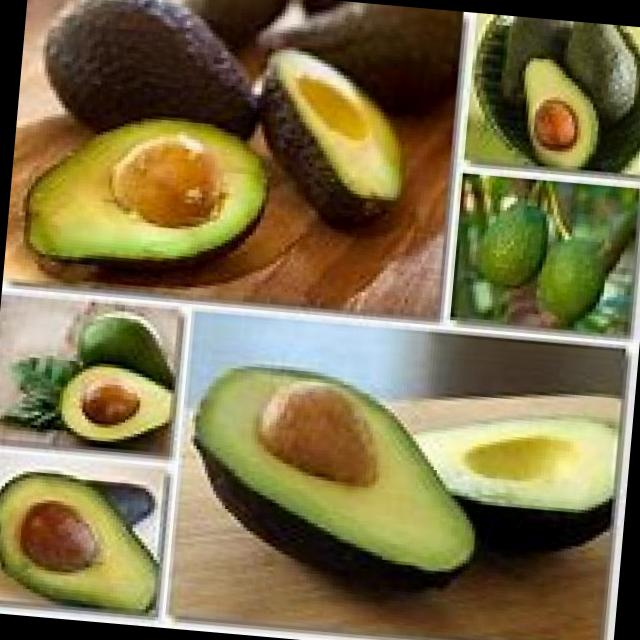avocado: (182, 351, 485, 598), (22, 96, 298, 280), (22, 0, 272, 144), (404, 402, 622, 557), (248, 36, 414, 236), (0, 470, 166, 617), (53, 366, 184, 448), (512, 54, 606, 168), (73, 309, 184, 389), (470, 190, 553, 295), (530, 236, 614, 332), (561, 25, 640, 122)
